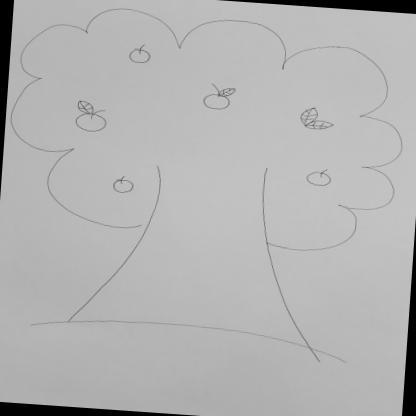apple: (68, 104, 113, 136), (198, 86, 236, 114), (107, 173, 138, 197), (303, 168, 335, 189), (126, 45, 152, 66)
crown_cloud: (3, 0, 413, 258)
root_none: (46, 300, 330, 374)
trunk_reflex: (81, 239, 306, 319)
